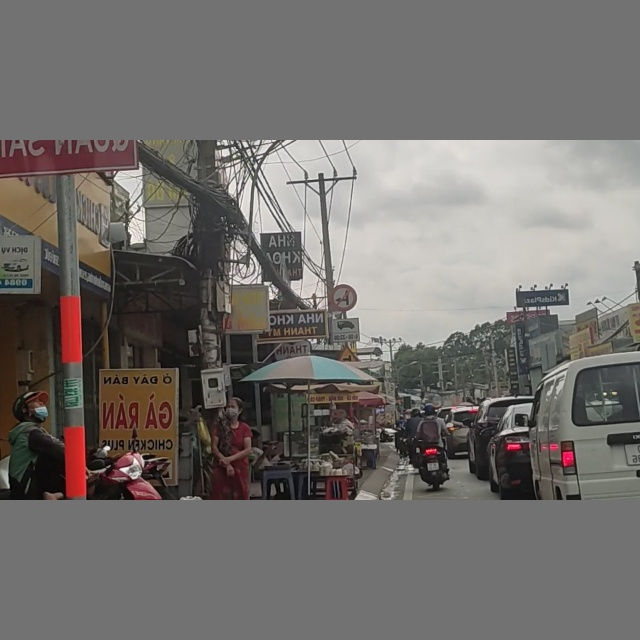P.139: (329, 284, 357, 313)
S.505a*Xe tai: (329, 317, 360, 341)
W.205b: (330, 348, 367, 362)
